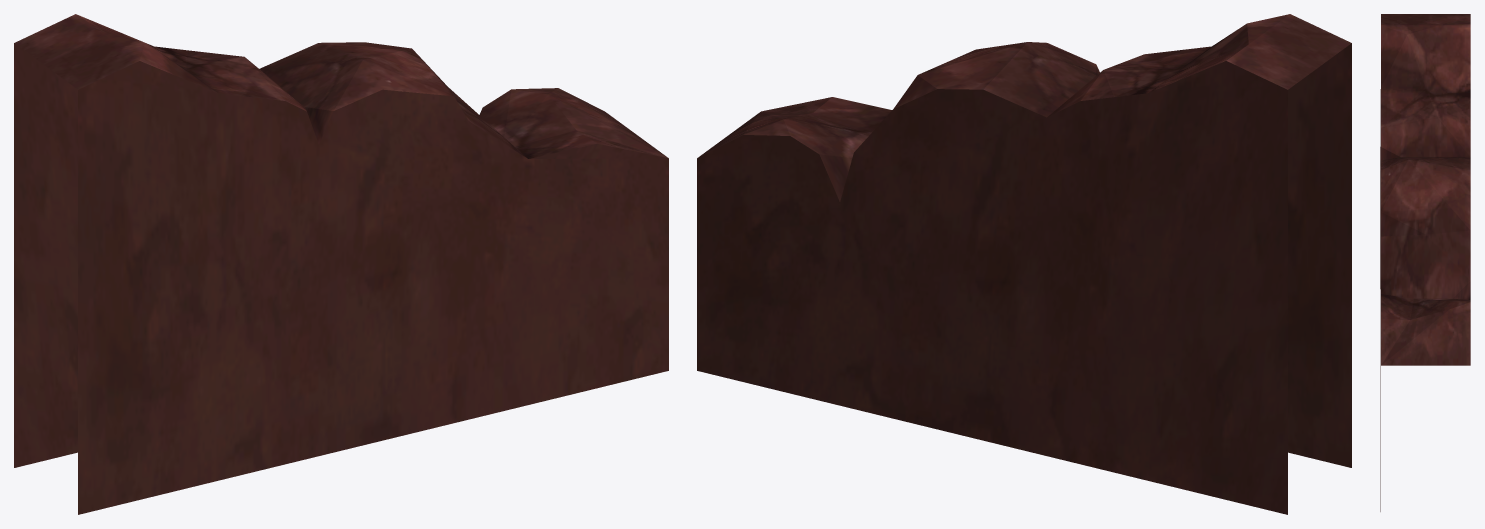
Rendered from lava_broken_straight_04.fbx.
The picture shows the model from 3 angles, left to right: view 1: azimuth 30°, elevation 25°; view 2: azimuth 150°, elevation 25°; view 3: azimuth 270°, elevation 25°; orthographic projection. The views are drawn at different scales.
Parts seen in each view (by area): view 1: lava_broken_straight_04-0; view 2: lava_broken_straight_04-0; view 3: lava_broken_straight_04-0.
Boxes of the visible parts, x1,y1,x2,y2 form: lava_broken_straight_04-0: (14, 14, 668, 514); lava_broken_straight_04-0: (697, 14, 1351, 514); lava_broken_straight_04-0: (1380, 14, 1470, 511).
Size of the model in its own units: 4 by 2.84 by 0.7542.
